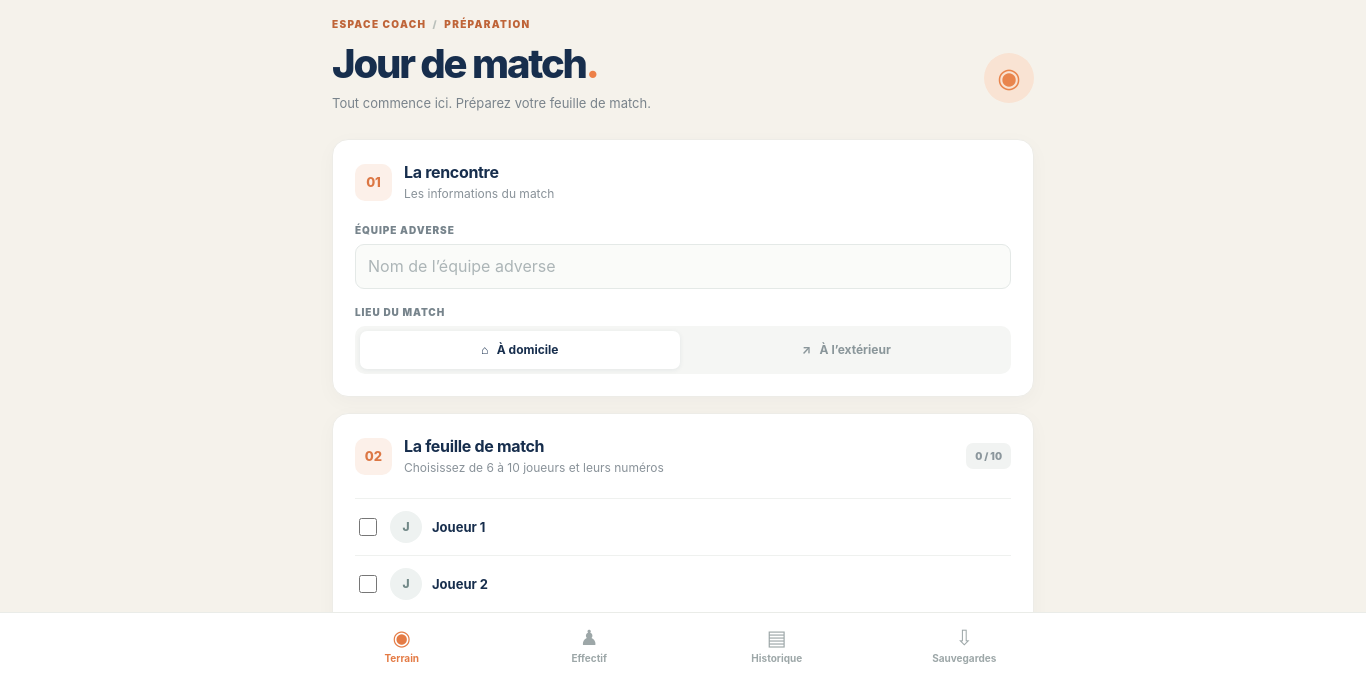
it: coach workflow › automatic file backup › pauses instead of overwriting an externally modified file
Expected: the heading "Jour de match." is shown, left=332, top=39, right=598, bottom=88
Click the button "♟ Effectif".
click(589, 646)  # box left=496, top=613, right=683, bottom=677
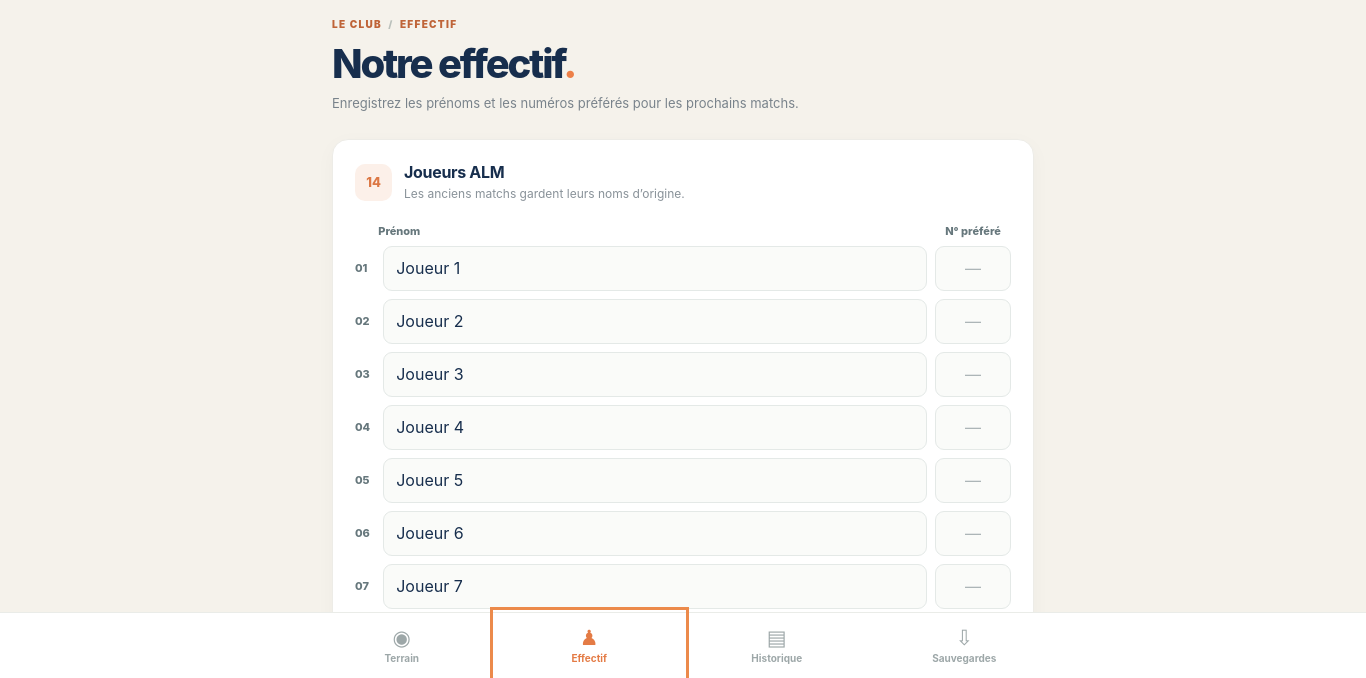
Replace the text in the field named "Prénom du joueur 1" with "Camille" at {"x": 655, "y": 268}, box left=383, top=246, right=927, bottom=290
(page scrolled)
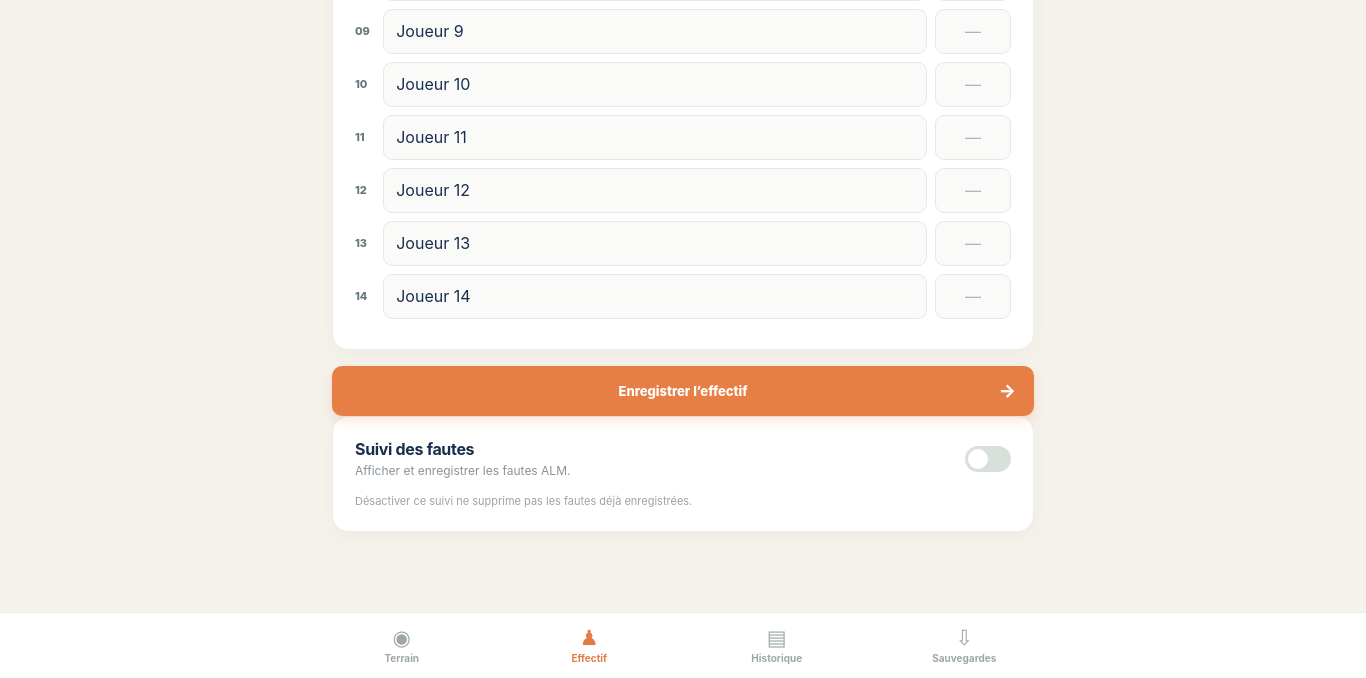
Click the button "Enregistrer l’effectif →".
click(683, 390)  # box left=332, top=366, right=1034, bottom=416
(page scrolled)
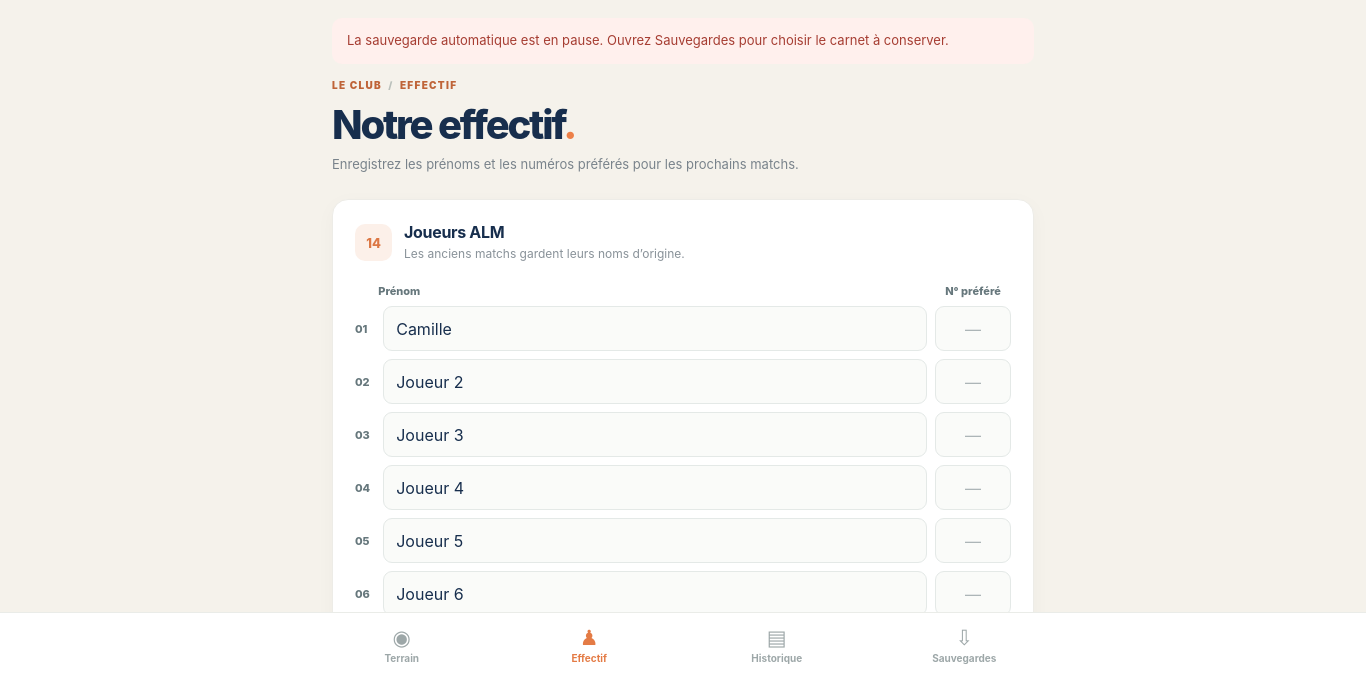
Result: the text "sauvegarde automatique est en pause" is shown at left=347, top=32, right=771, bottom=48
